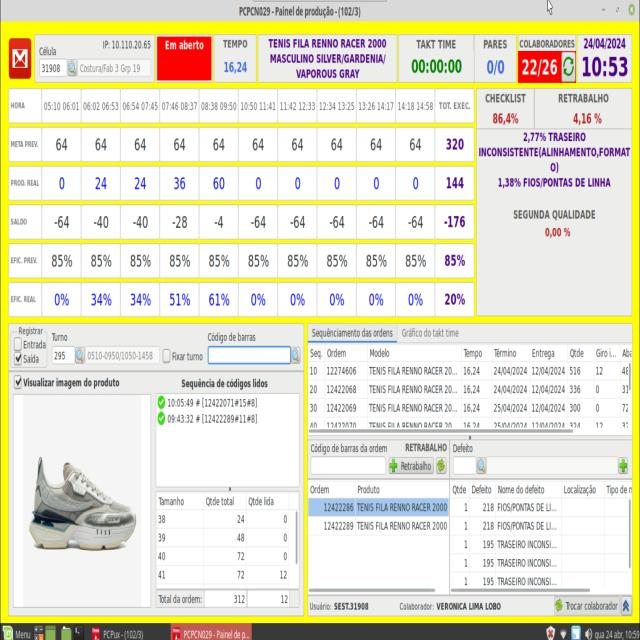takt_time: (398, 35, 473, 80)
